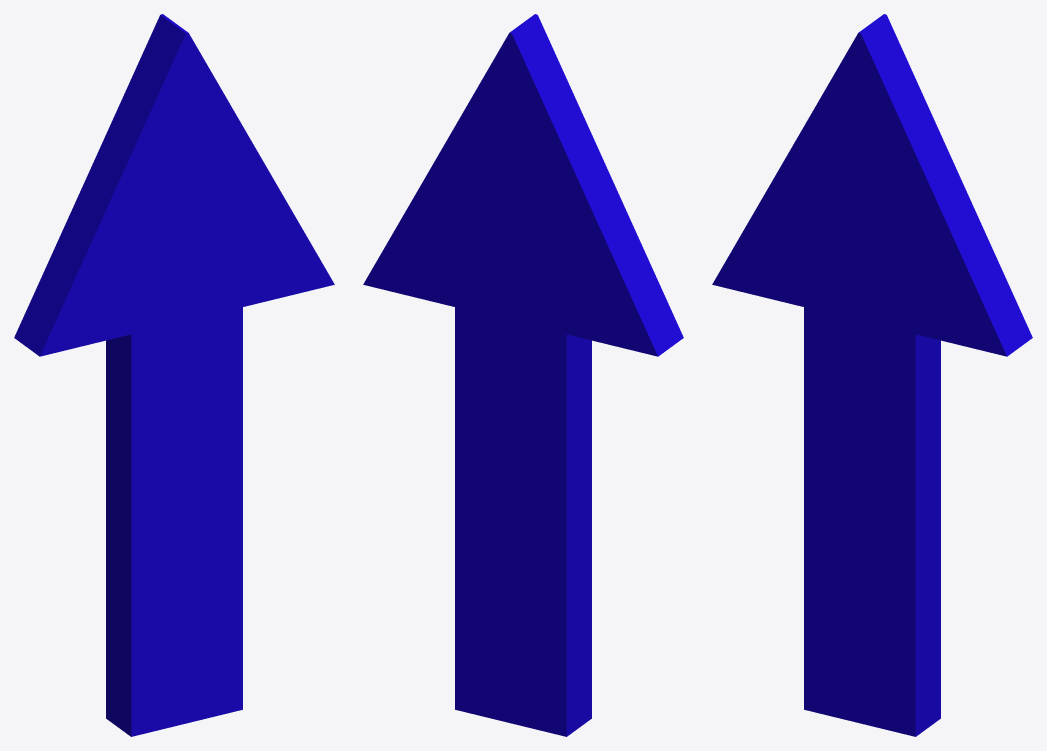
File: ARROW.fbx
3 renders of one model, left to right at view 1: azimuth 30°, elevation 25°; view 2: azimuth 150°, elevation 25°; view 3: azimuth 330°, elevation 25°, orthographic.
Parts seen in each view (by area): view 1: Cube.002; view 2: Cube.002; view 3: Cube.002.
Boxes of the visible parts, x1,y1,x2,y2 form: Cube.002: [14, 14, 334, 736]; Cube.002: [363, 14, 683, 736]; Cube.002: [712, 14, 1032, 736].
Size of the model in its own units: 529 by 1182 by 79.9.
